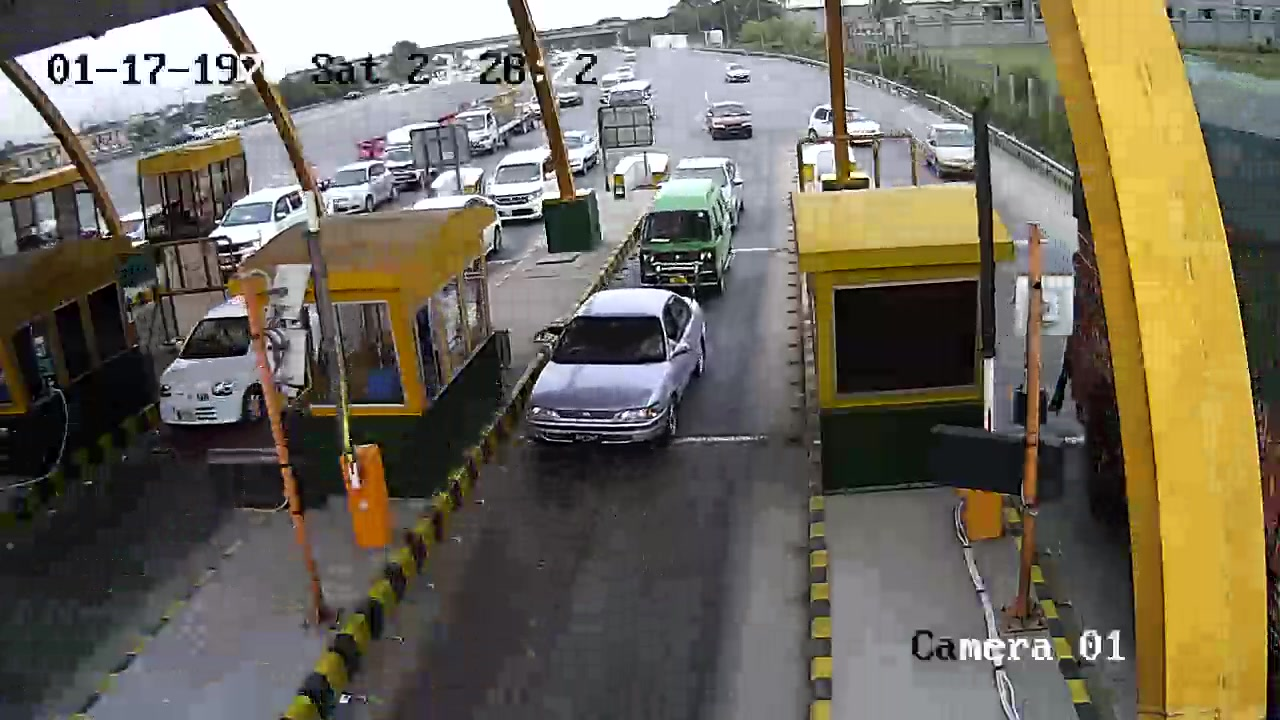F1: (519, 285, 713, 473)
